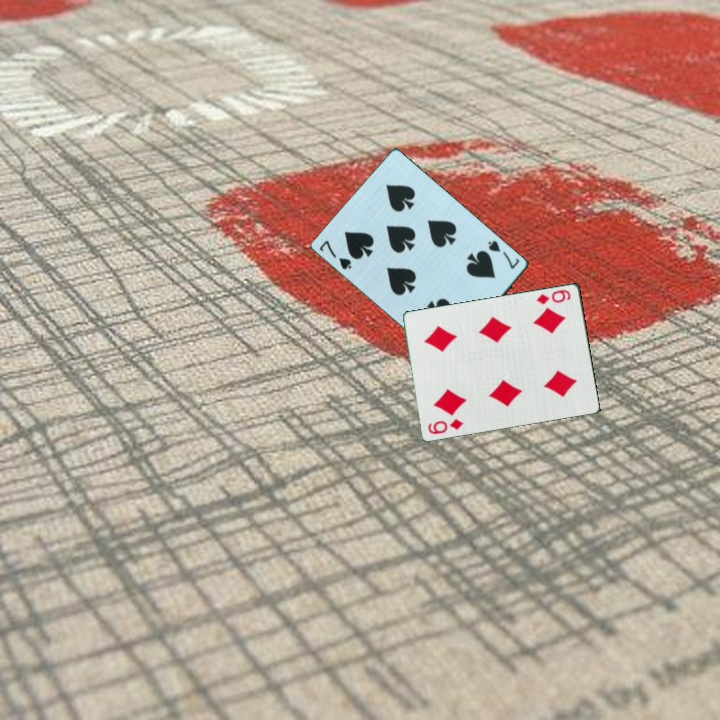6d: (425, 415, 466, 437), (533, 286, 574, 307)
7s: (484, 237, 523, 272), (316, 237, 355, 272)
